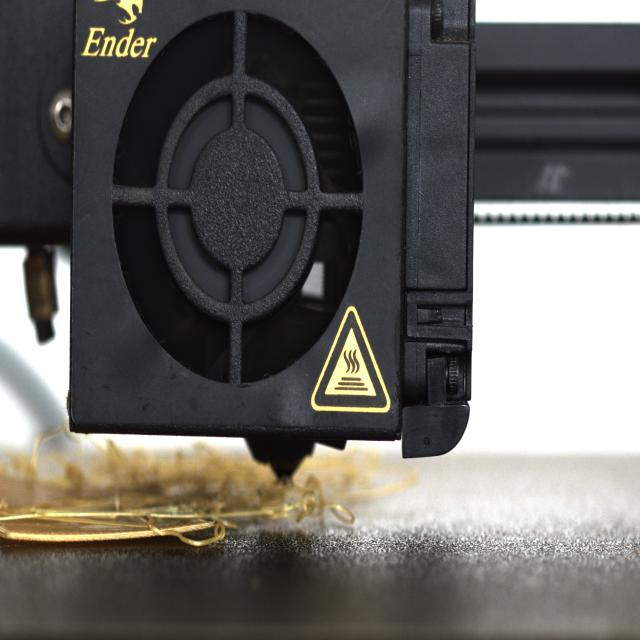Without deffect: (98, 12, 376, 402)
